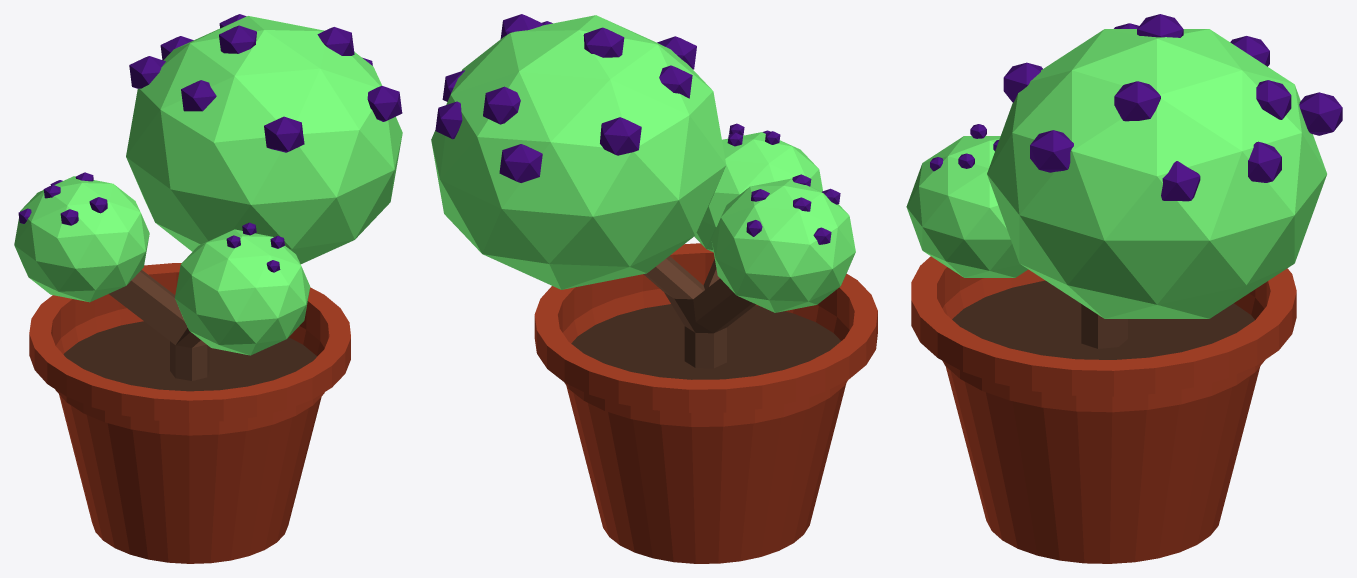
File: BerryBushTile.fbx
The picture shows the model from 3 angles, left to right: view 1: azimuth 30°, elevation 25°; view 2: azimuth 150°, elevation 25°; view 3: azimuth 270°, elevation 25°; orthographic projection. The views are drawn at different scales.
Visible parts, largest first — view 1: BerryBush; view 2: BerryBush; view 3: BerryBush.
Part boxes in pixels (x1=…): BerryBush: x1=14, y1=14, x2=402, y2=563; BerryBush: x1=431, y1=14, x2=877, y2=563; BerryBush: x1=906, y1=14, x2=1342, y2=563.
Size of the model in its own units: 90 by 110 by 80.
